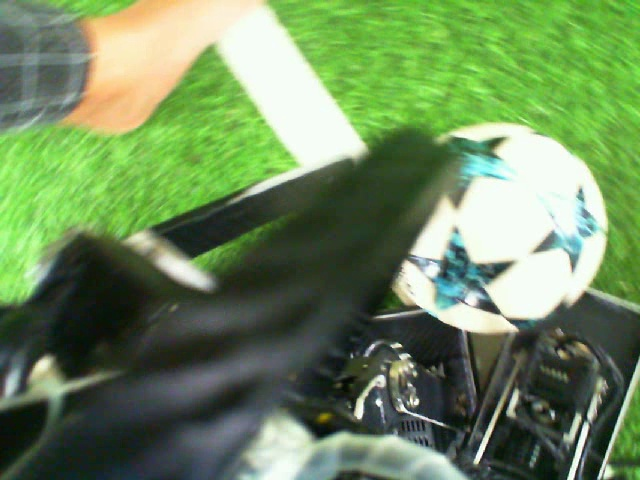ball: (391, 120, 611, 338)
